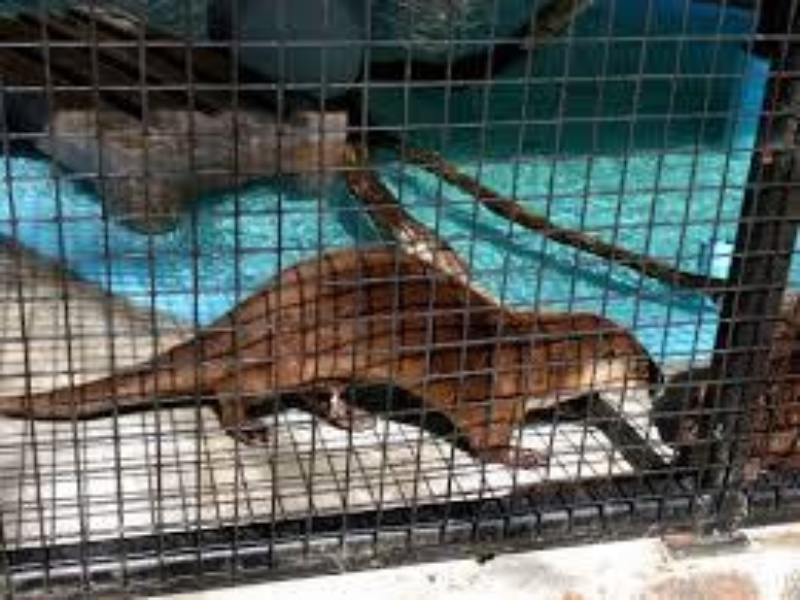minkish: (1, 243, 668, 472)
